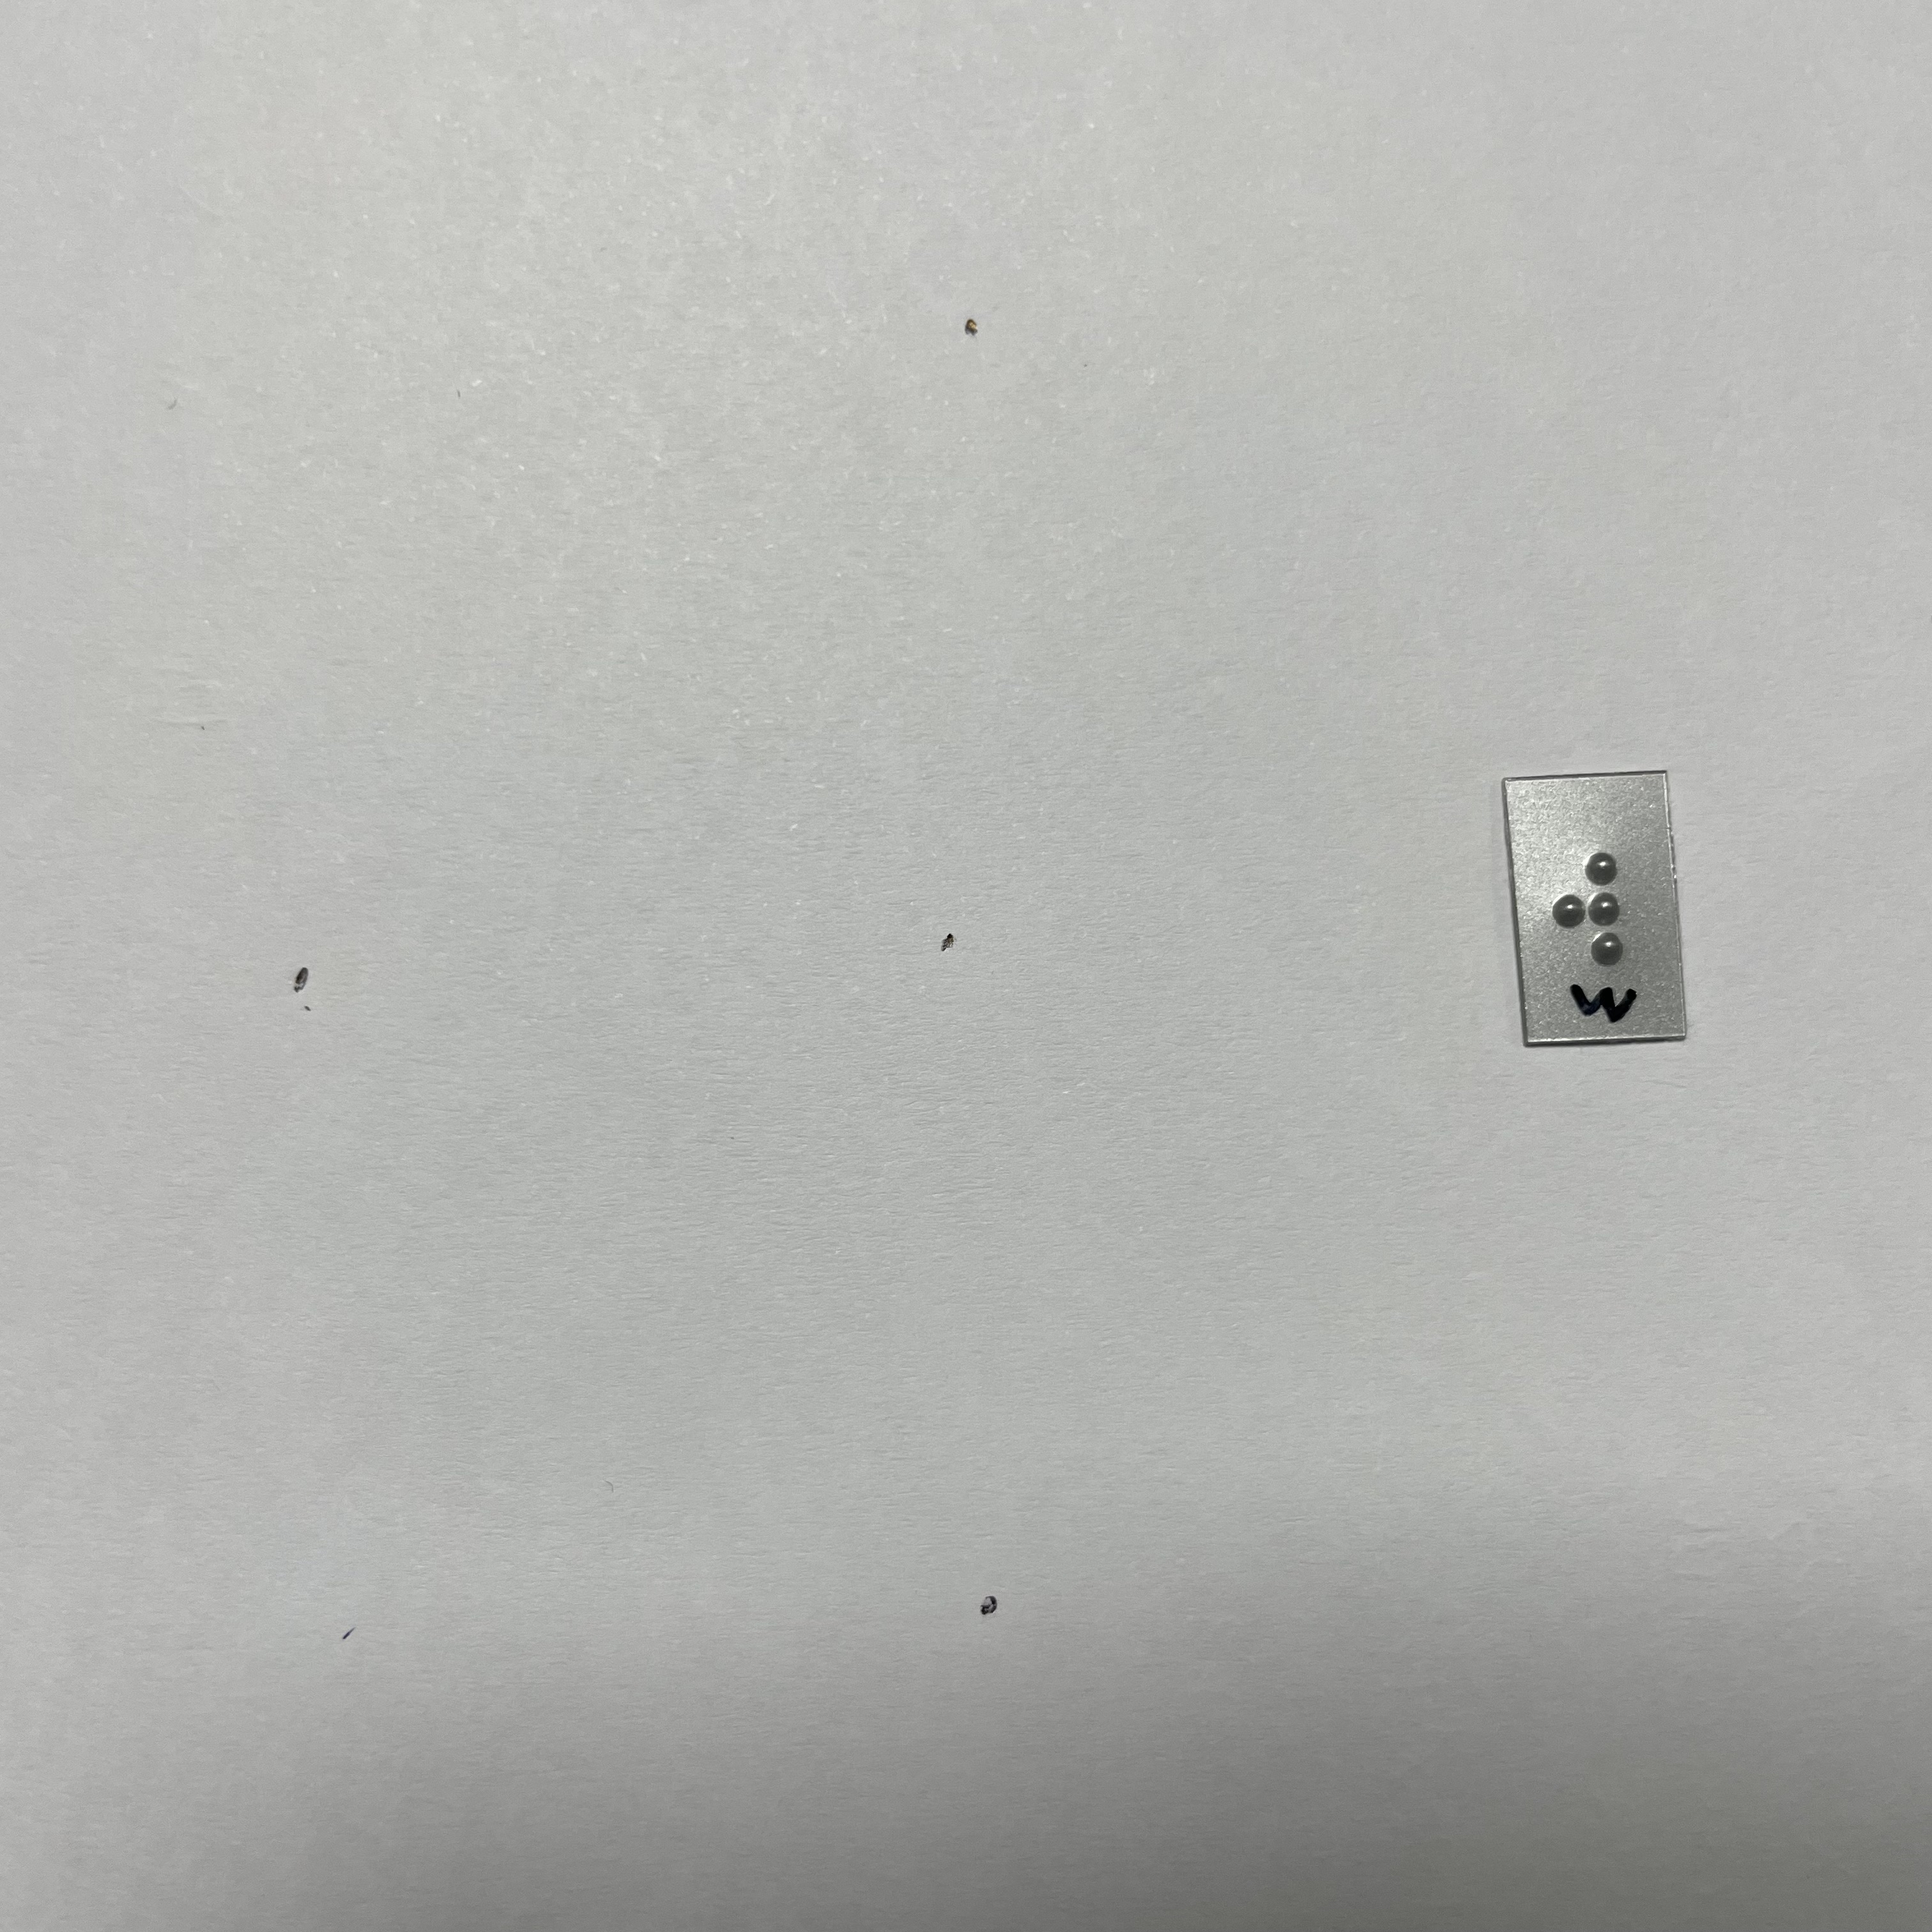w: (1540, 836, 1643, 980)
